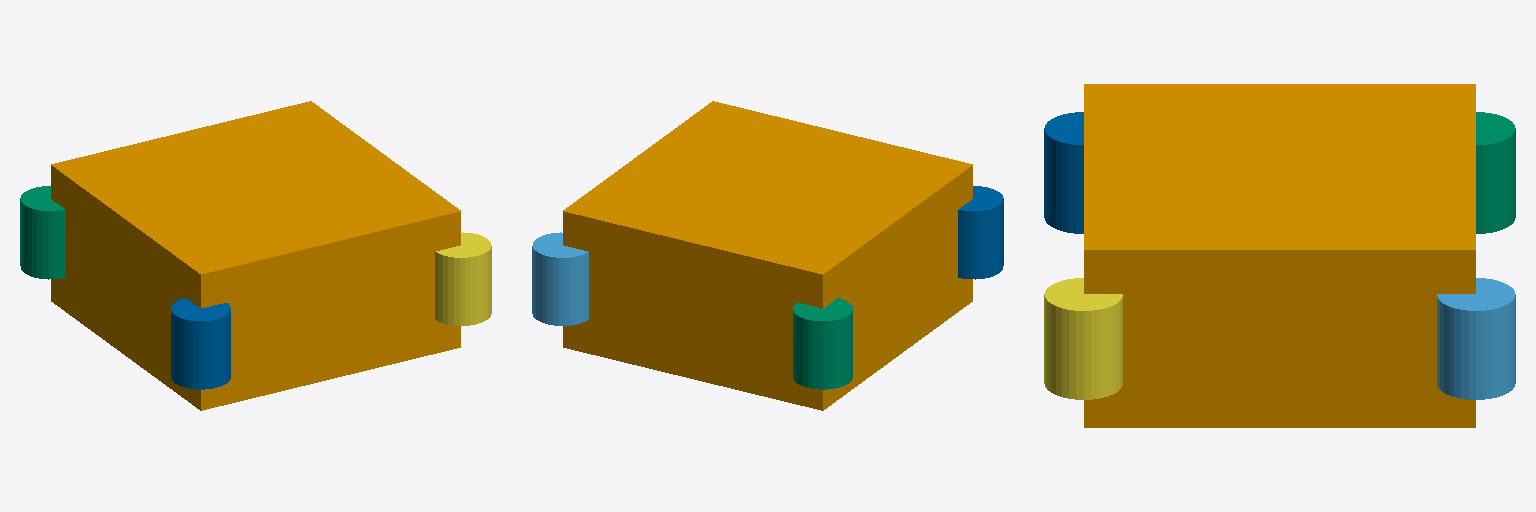
URDF robot description (auto_quad):
<?xml version="1.0"?>
<robot name="auto_quad">
    <!-- Base Link -->
    <link name="base_link">
        <inertial>
            <mass value="1.0"/>
            <origin xyz="0 0 0" rpy="0 0 0"/>
            <inertia ixx="0.1" ixy="0.0" ixz="0.0" iyy="0.1" iyz="0.0" izz="0.1"/>
        </inertial>
        <visual>
            <origin xyz="0 0 0" rpy="0 0 0"/>
            <geometry>
                <box size="0.2 0.2 0.1"/>
            </geometry>
        </visual>
        <collision>
            <origin xyz="0 0 0" rpy="0 0 0"/>
            <geometry>
                <box size="0.2 0.2 0.1"/>
            </geometry>
        </collision>
    </link>

    <!-- Front Left Motor -->
    <link name="front_left_motor">
        <inertial>
            <mass value="0.1"/>
            <origin xyz="0 0 0" rpy="0 0 0"/>
            <inertia ixx="0.01" ixy="0.0" ixz="0.0" iyy="0.01" iyz="0.0" izz="0.01"/>
        </inertial>
        <visual>
            <origin xyz="0 0 0" rpy="0 0 0"/>
            <geometry>
                <cylinder length="0.05" radius="0.02"/>
            </geometry>
        </visual>
        <collision>
            <origin xyz="0 0 0" rpy="0 0 0"/>
            <geometry>
                <cylinder length="0.05" radius="0.02"/>
            </geometry>
        </collision>
    </link>

    <joint name="front_left_motor_joint" type="fixed">
        <parent link="base_link"/>
        <child link="front_left_motor"/>
        <origin xyz="0.1 0.1 0" rpy="0 0 0"/>
    </joint>

    <!-- Front Right Motor -->
    <link name="front_right_motor">
        <inertial>
            <mass value="0.1"/>
            <origin xyz="0 0 0" rpy="0 0 0"/>
            <inertia ixx="0.01" ixy="0.0" ixz="0.0" iyy="0.01" iyz="0.0" izz="0.01"/>
        </inertial>
        <visual>
            <origin xyz="0 0 0" rpy="0 0 0"/>
            <geometry>
                <cylinder length="0.05" radius="0.02"/>
            </geometry>
        </visual>
        <collision>
            <origin xyz="0 0 0" rpy="0 0 0"/>
            <geometry>
                <cylinder length="0.05" radius="0.02"/>
            </geometry>
        </collision>
    </link>

    <joint name="front_right_motor_joint" type="fixed">
        <parent link="base_link"/>
        <child link="front_right_motor"/>
        <origin xyz="-0.1 0.1 0" rpy="0 0 0"/>
    </joint>
    
     <!-- Back Left Motor -->
    <link name="back_left_motor">
        <inertial>
            <mass value="0.1"/>
            <origin xyz="0 0 0" rpy="0 0 0"/>
            <inertia ixx="0.01" ixy="0.0" ixz="0.0" iyy="0.01" iyz="0.0" izz="0.01"/>
        </inertial>
        <visual>
            <origin xyz="0 0 0" rpy="0 0 0"/>
            <geometry>
                <cylinder length="0.05" radius="0.02"/>
            </geometry>
        </visual>
        <collision>
            <origin xyz="0 0 0" rpy="0 0 0"/>
            <geometry>
                <cylinder length="0.05" radius="0.02"/>
            </geometry>
        </collision>
    </link>

    <joint name="back_left_motor_joint" type="fixed">
        <parent link="base_link"/>
        <child link="back_left_motor"/>
        <origin xyz="0.1 -0.1 0" rpy="0 0 0"/>
    </joint>
    
    <!-- Front Left Motor -->
    <link name="back_right_motor">
        <inertial>
            <mass value="0.1"/>
            <origin xyz="0 0 0" rpy="0 0 0"/>
            <inertia ixx="0.01" ixy="0.0" ixz="0.0" iyy="0.01" iyz="0.0" izz="0.01"/>
        </inertial>
        <visual>
            <origin xyz="0 0 0" rpy="0 0 0"/>
            <geometry>
                <cylinder length="0.05" radius="0.02"/>
            </geometry>
        </visual>
        <collision>
            <origin xyz="0 0 0" rpy="0 0 0"/>
            <geometry>
                <cylinder length="0.05" radius="0.02"/>
            </geometry>
        </collision>
    </link>

    <joint name="back_right_motor_joint" type="fixed">
        <parent link="base_link"/>
        <child link="back_right_motor"/>
        <origin xyz="-0.1 -0.1 0" rpy="0 0 0"/>
    </joint>




</robot>

--- Render facts (derived) ---
3 views of the same robot in one strip: view 1: azimuth 30°, elevation 25°; view 2: azimuth 150°, elevation 25°; view 3: azimuth 270°, elevation 25° (orthographic).
Robot: auto_quad — 5 links, 4 joints (4 fixed); root link base_link; default pose: every joint at zero.
Visible links, largest first — view 1: base_link, back_right_motor, back_left_motor, front_right_motor; view 2: base_link, front_right_motor, front_left_motor, back_right_motor; view 3: base_link, front_left_motor, back_left_motor, front_right_motor, back_right_motor.
Link boxes in pixels (bbox=[...]): base_link: bbox=[51, 101, 460, 410]; back_right_motor: bbox=[171, 298, 230, 389]; back_left_motor: bbox=[435, 232, 491, 325]; front_right_motor: bbox=[20, 186, 65, 279]; base_link: bbox=[563, 101, 972, 410]; front_right_motor: bbox=[793, 298, 852, 389]; front_left_motor: bbox=[532, 232, 588, 325]; back_right_motor: bbox=[958, 186, 1003, 279]; base_link: bbox=[1084, 84, 1475, 427]; front_left_motor: bbox=[1437, 278, 1515, 399]; back_left_motor: bbox=[1044, 278, 1122, 399]; front_right_motor: bbox=[1476, 112, 1515, 233]; back_right_motor: bbox=[1044, 112, 1083, 233].
Bounding box of the posed robot: 0.24 × 0.24 × 0.1 m (x, y, z).
Geometry: primitives only (box / cylinder / sphere), no mesh files.